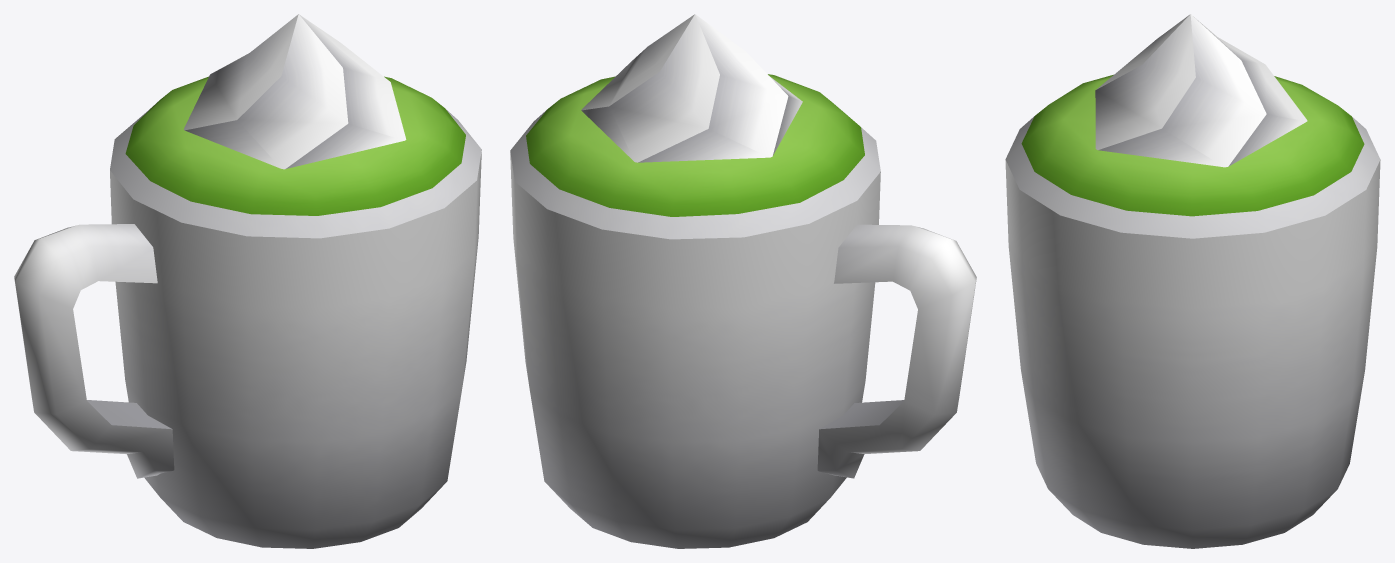
File: m_Mug01_Matcha04.fbx
3 renders of one model, left to right at view 1: azimuth 30°, elevation 25°; view 2: azimuth 150°, elevation 25°; view 3: azimuth 270°, elevation 25°, orthographic.
Visible parts, largest first — view 1: m_Mug01_Matcha04; view 2: m_Mug01_Matcha04; view 3: m_Mug01_Matcha04.
Part boxes in pixels (<box>): m_Mug01_Matcha04: <box>14,14,481,548</box>; m_Mug01_Matcha04: <box>510,14,976,548</box>; m_Mug01_Matcha04: <box>1005,14,1380,548</box>.
Bounding box in the file's own units: 15.22 × 15.79 × 11.16.
